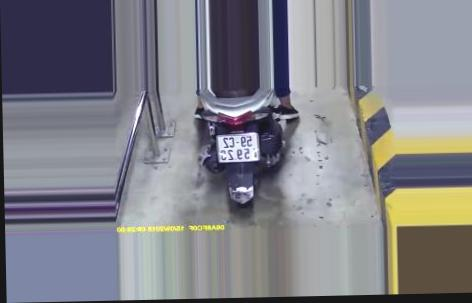License_Plate: (215, 126, 262, 166)
